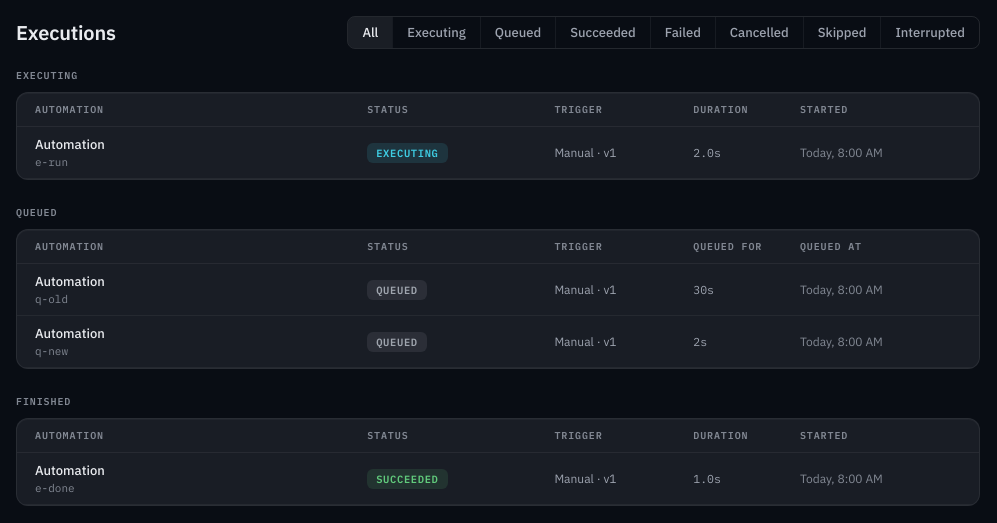
Test: executions list live segments (§7) › keeps the Queued segment's own columns and drain order, and never fetches
Click the button "Queued". click: (518, 32)
box: [480,17,555,48]
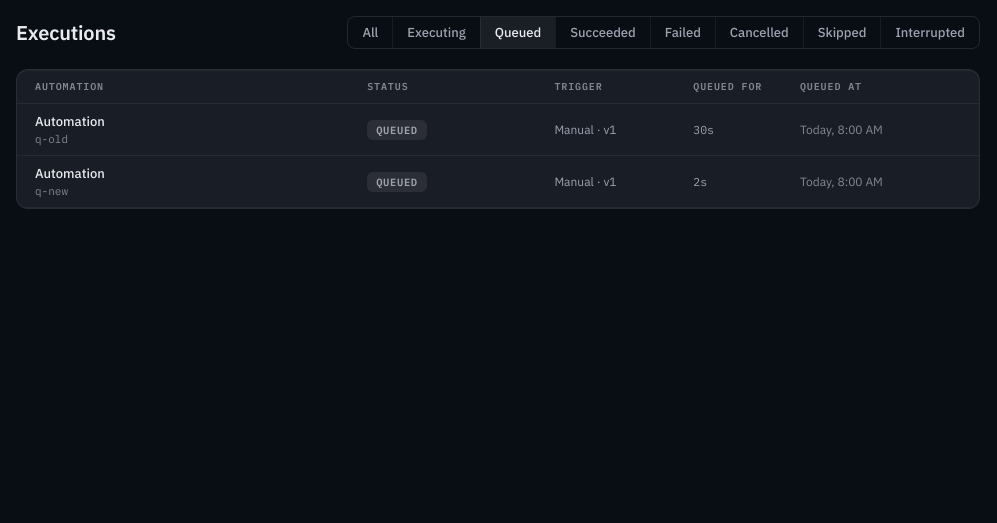
Expected: the number of buttons with test id "execution-row" is 2, [17,104,979,156]; [17,156,979,208]
Expected: the text "DURATION" is gone
Expected: the text "STARTED" is gone
